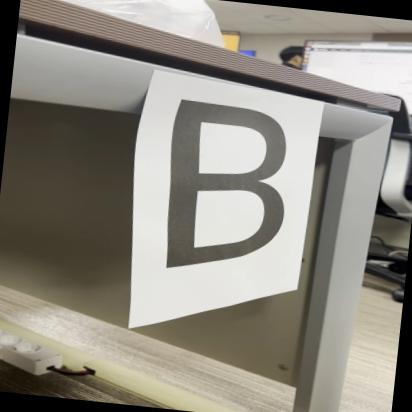seat: (148, 84, 308, 284)
